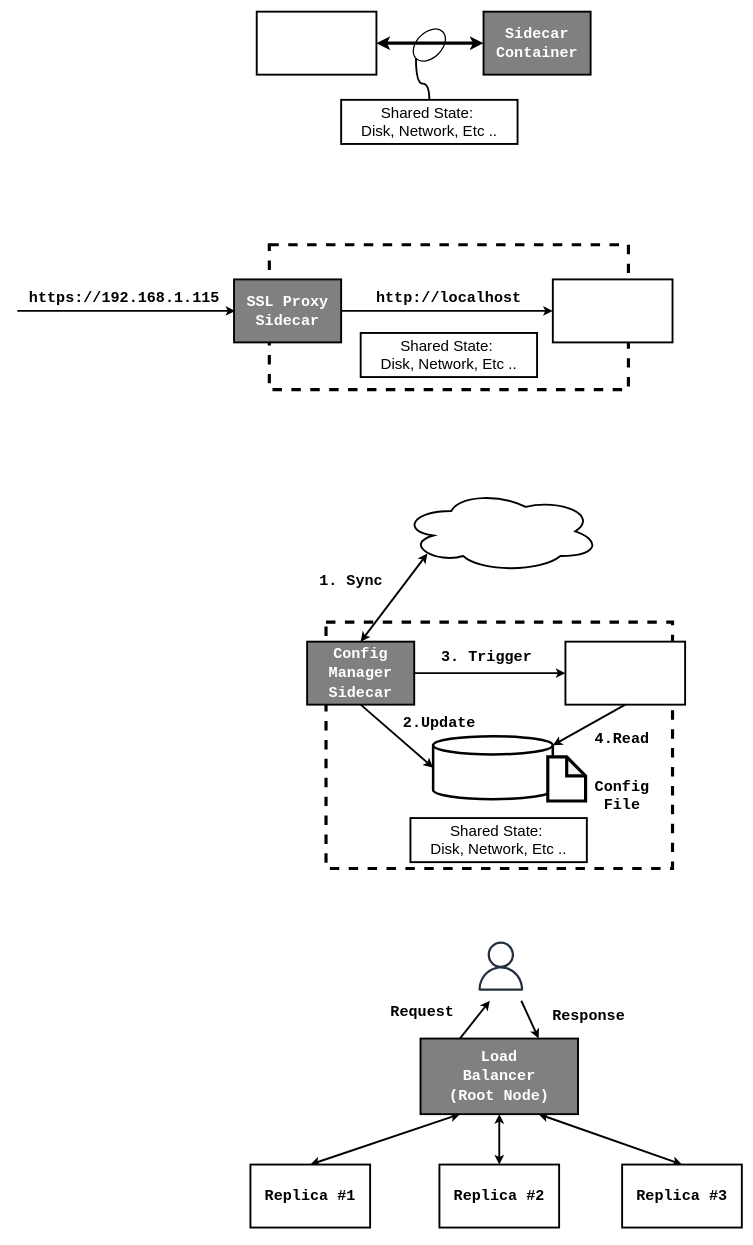
Some shapes in this 753 by 1245 pixel diagram are drawn without their labels. Here are the shapes that lost their labels. From the top down, the centre of each, then its label:
At point (316, 42): "Application Container".
At point (612, 310): "Legacy HTTP Service".
At point (500, 531): "Remote Config Service".
At point (625, 672): "Legacy Service".
At point (493, 767): "Shared Filesystem".
